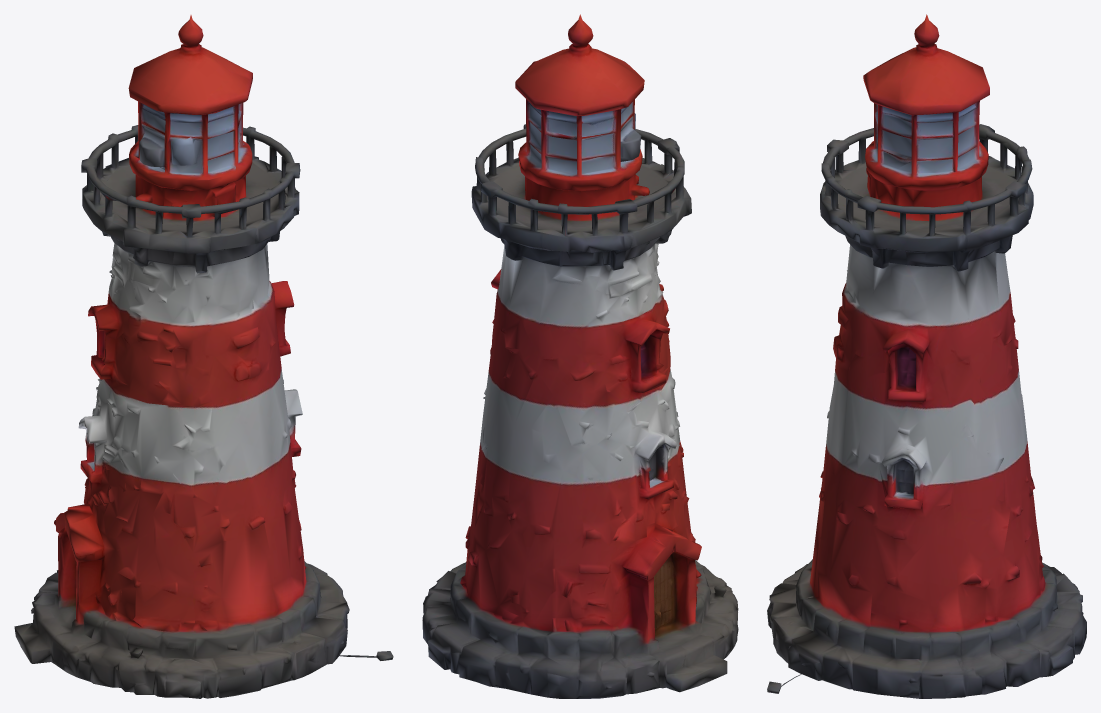
The model's file is env-lighthouse.glb.
The picture shows the model from 3 angles, left to right: view 1: azimuth 30°, elevation 25°; view 2: azimuth 150°, elevation 25°; view 3: azimuth 270°, elevation 25°; orthographic projection.
Visible parts, largest first — view 1: tripo_node_792b1cff-8426-494f-a85e-fb786441fb3c; view 2: tripo_node_792b1cff-8426-494f-a85e-fb786441fb3c; view 3: tripo_node_792b1cff-8426-494f-a85e-fb786441fb3c.
Part boxes in pixels (<box>): tripo_node_792b1cff-8426-494f-a85e-fb786441fb3c: <box>14,15,393,698</box>; tripo_node_792b1cff-8426-494f-a85e-fb786441fb3c: <box>422,14,738,698</box>; tripo_node_792b1cff-8426-494f-a85e-fb786441fb3c: <box>767,14,1086,698</box>.
Bounding box in the file's own units: 0.4928 × 1 × 0.4685.
1 material, 1 textured.
